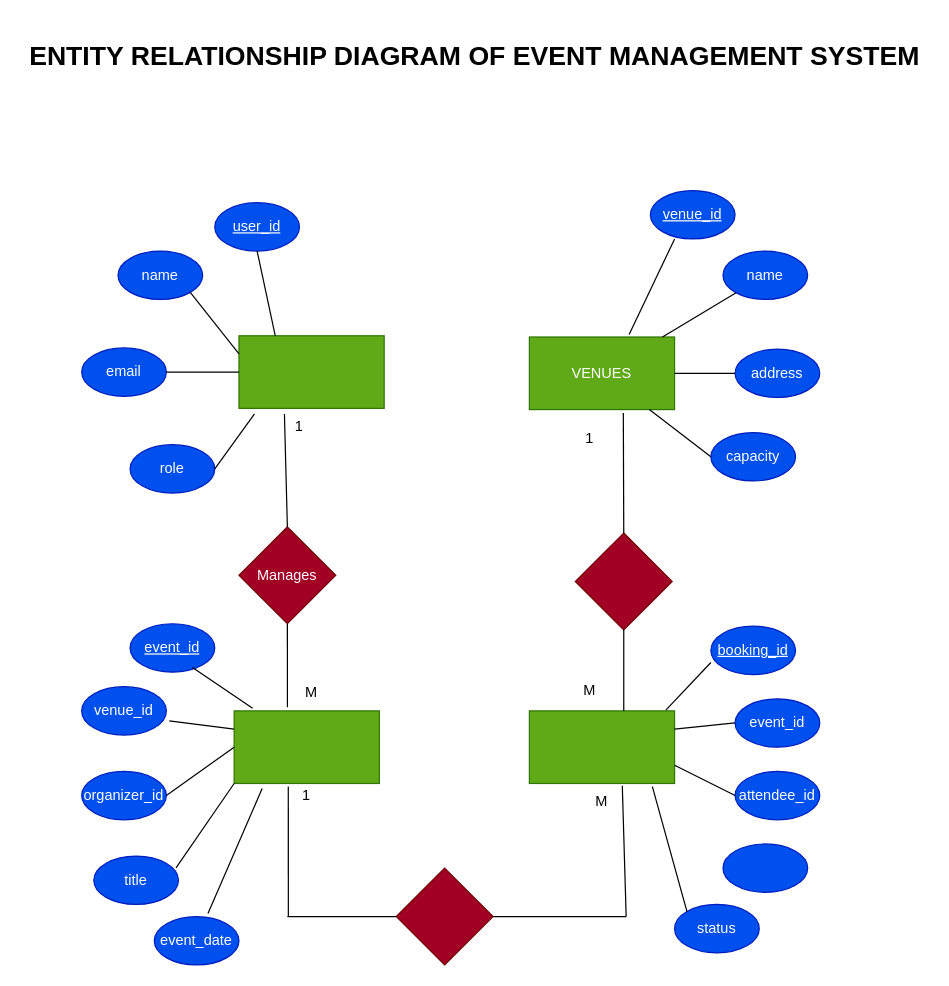
Image size: 949x986. Some labels were removed from this diagram. The shapes that lost their labels are listed below. From the top down, each one's box as (x1, y1, x2, y2) in pixels, then its label:
(238, 335, 384, 408): USERS
(574, 532, 672, 630): Hosts
(233, 710, 379, 783): EVENTS
(528, 710, 675, 783): BOOKING
(722, 843, 808, 892): booking_date
(395, 867, 493, 965): Attendees
